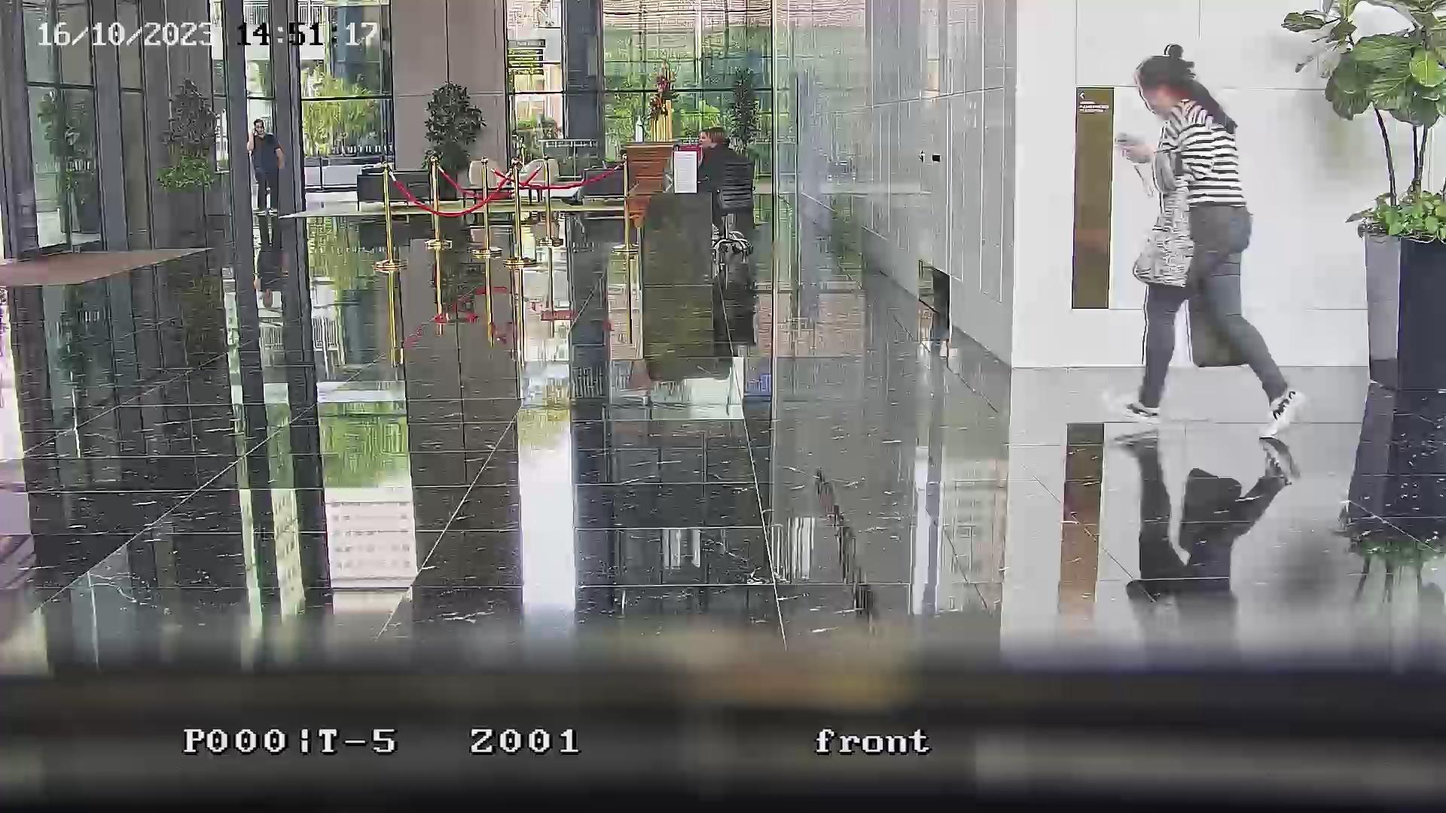person: (1119, 49, 1303, 435), (248, 117, 285, 214), (698, 126, 742, 193)
